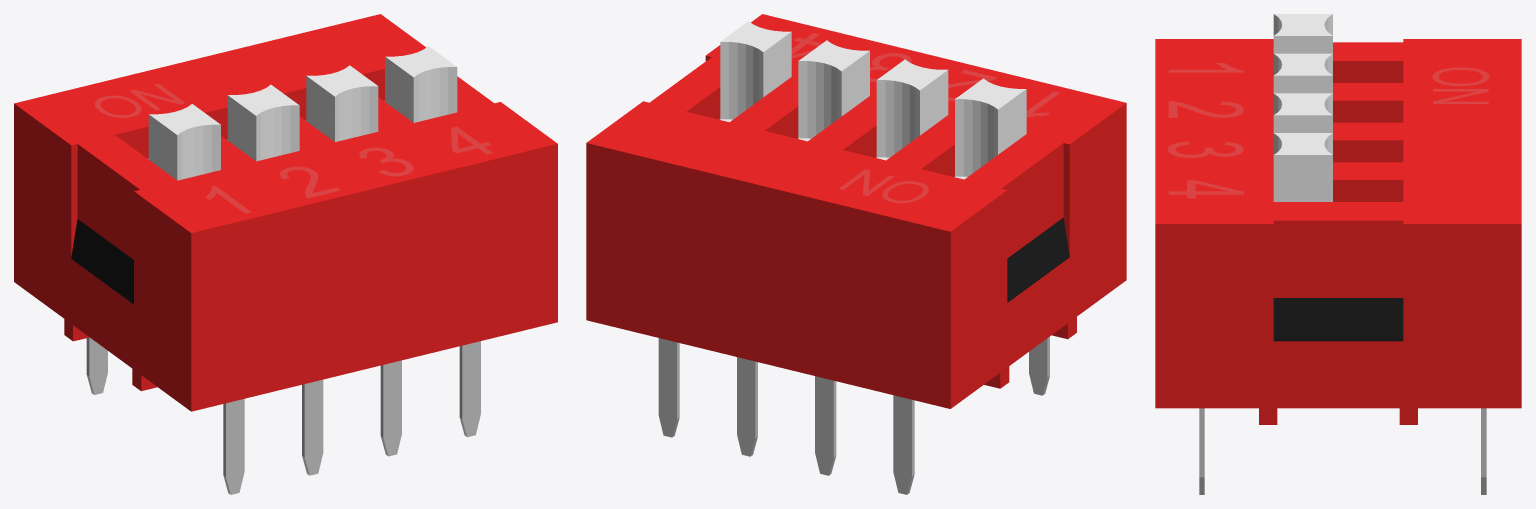
3 views of the same model, side by side, from view 1: azimuth 30°, elevation 25°; view 2: azimuth 150°, elevation 25°; view 3: azimuth 270°, elevation 25° (orthographic). The views are drawn at different scales.
Visible parts, largest first — view 1: DS-4; view 2: DS-4; view 3: DS-4.
Part boxes in pixels (x1,y1,x2,y2): DS-4: (14,14,557,494); DS-4: (586,14,1126,494); DS-4: (1155,14,1521,494).
Bounding box in the file's own units: 0.0213 × 0.0187 × 0.0178.
